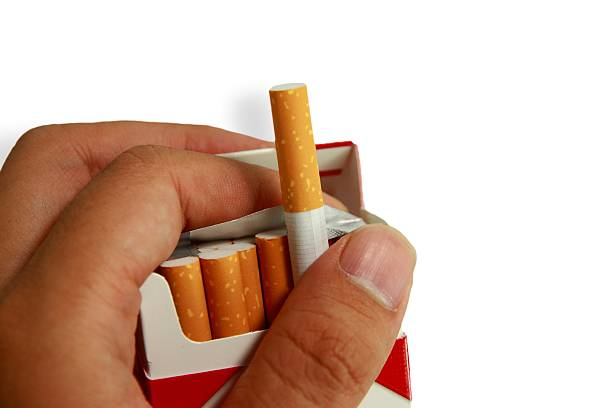cigarette: (134, 142, 413, 408), (269, 79, 334, 283), (199, 248, 250, 341), (159, 255, 212, 341), (255, 229, 289, 328), (238, 243, 268, 331)
